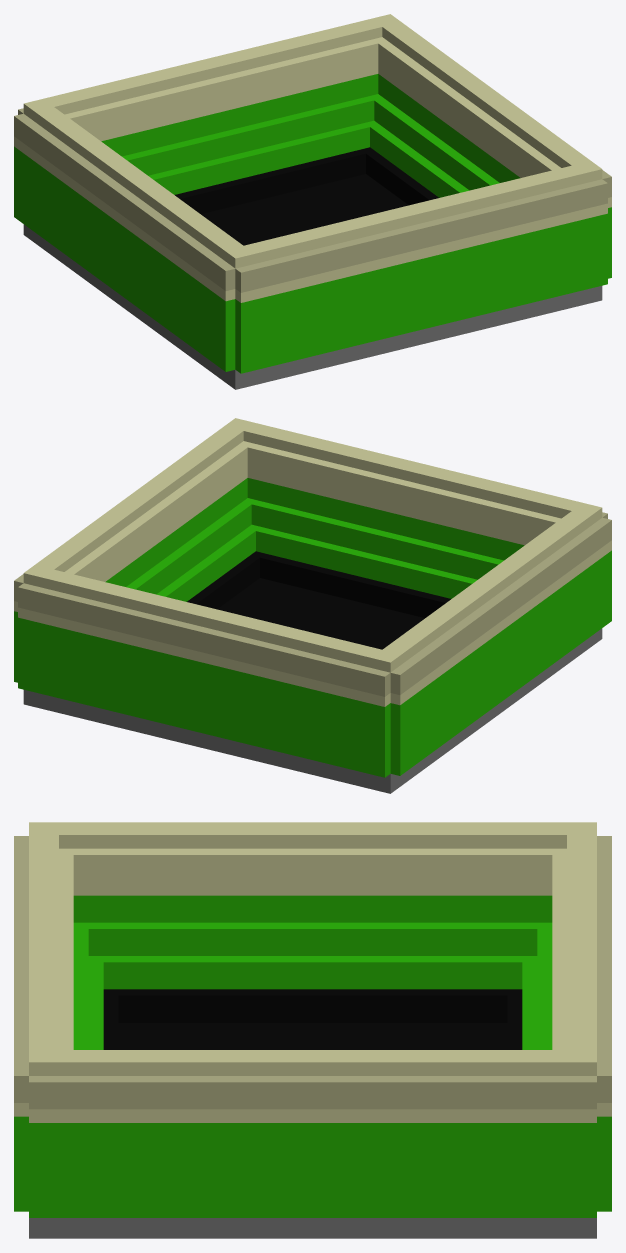
File: TrashCan.obj
The picture shows the model from 3 angles, top to bottom: view 1: azimuth 30°, elevation 25°; view 2: azimuth 150°, elevation 25°; view 3: azimuth 270°, elevation 25°; orthographic projection. The views are drawn at different scales.
Size of the model in its own units: 4 by 1.3 by 4.
Materials: 1 (1 with a texture image).
